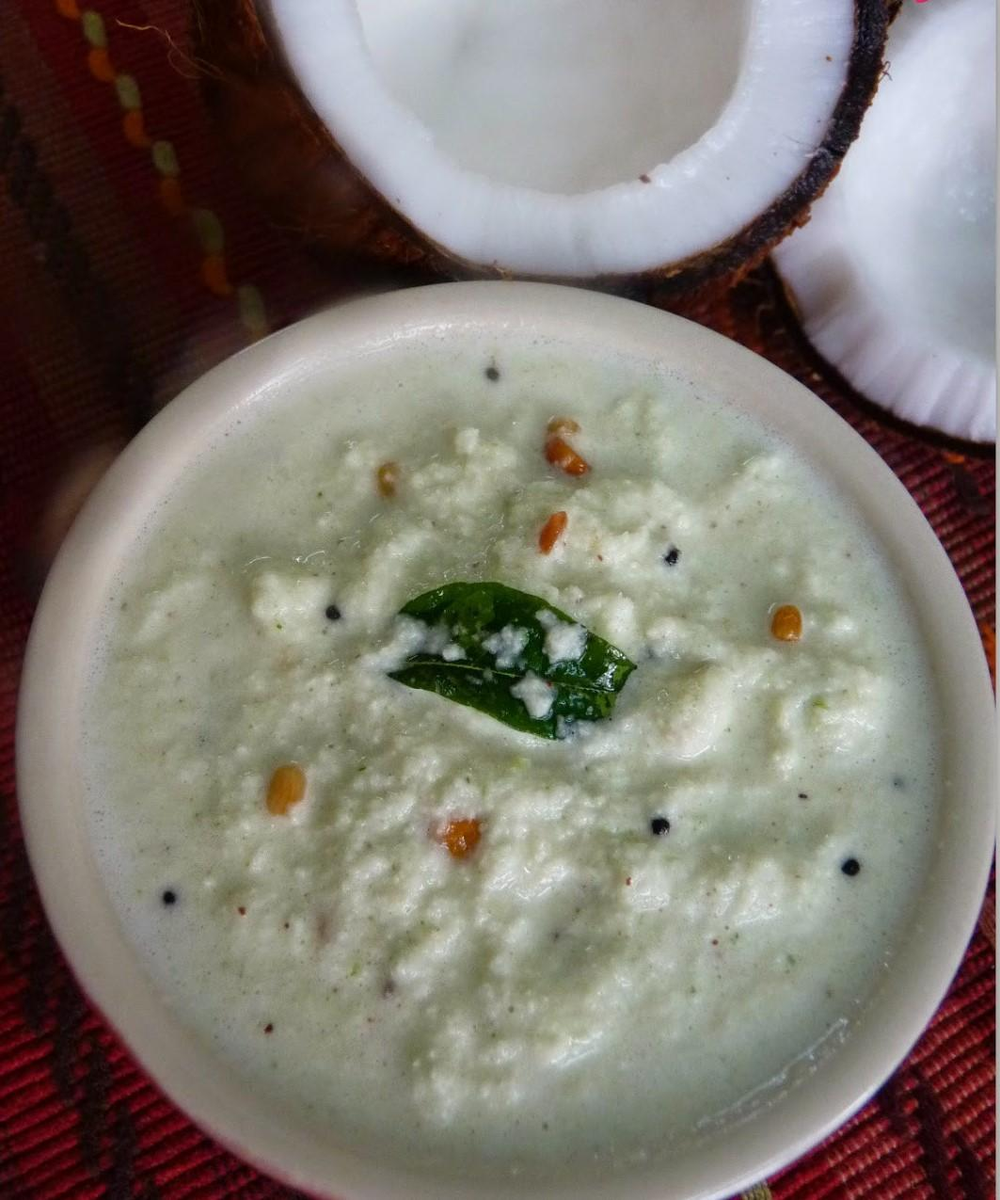CoconutChutney: (83, 334, 921, 1141)
